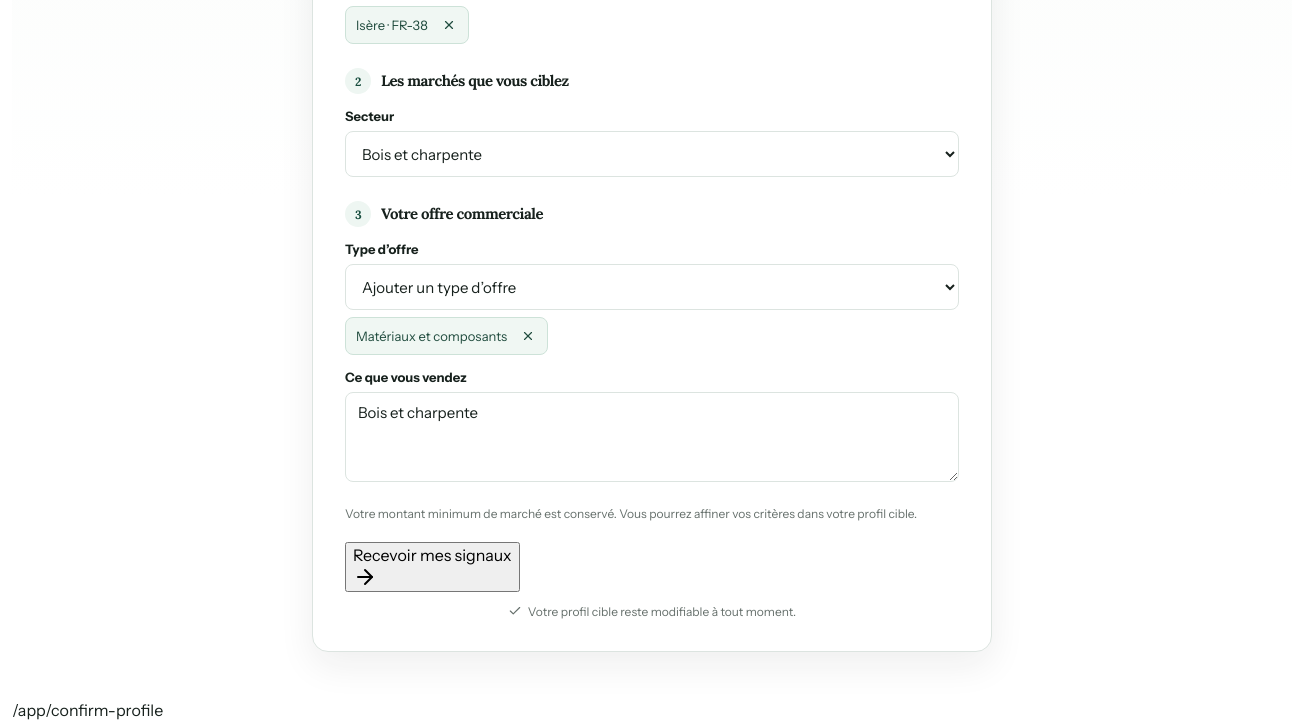
affiche une erreur si le serveur conserve un profil incomplet, sans retour en boucle
(page scrolled)
Click the button "Recevoir mes signaux".
click(432, 567)  # box [345,542,520,592]
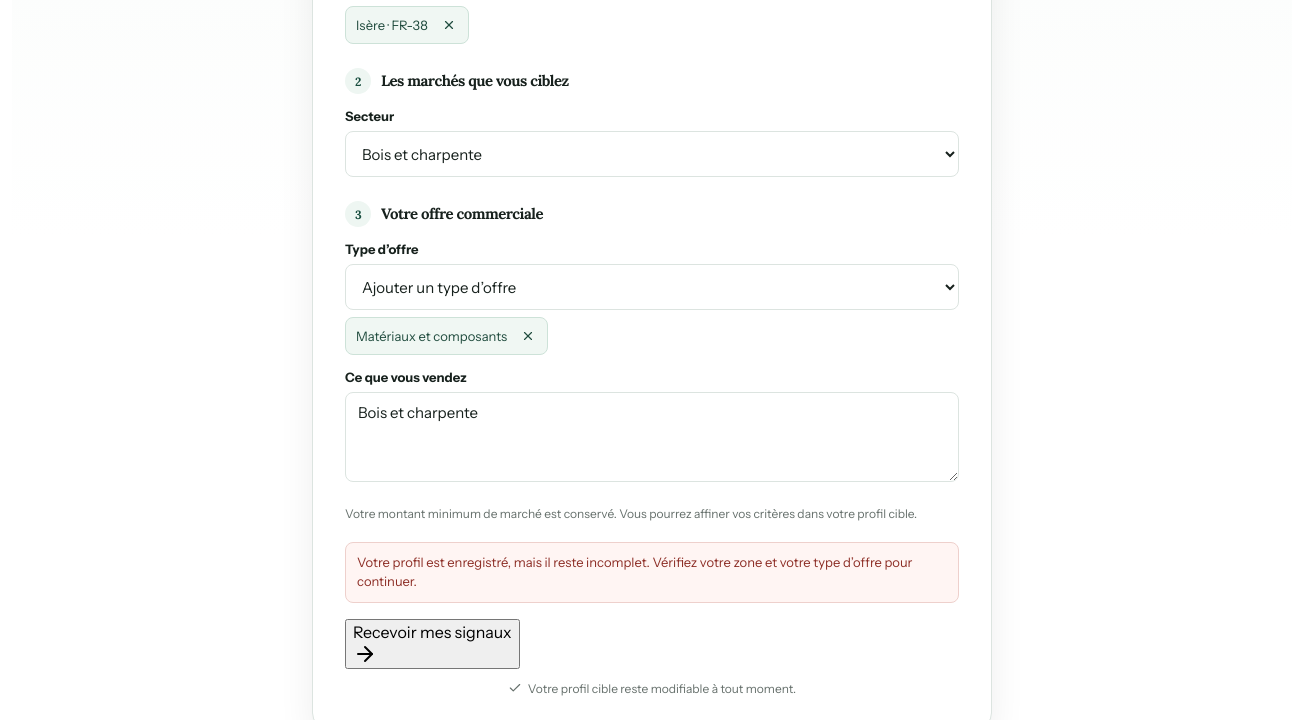
Check: the text box labelled "Ce que vous vendez" holds "Bois et charpente", box [345,392,959,482]
Check: the message shows "il reste incomplet", box [357,554,912,589]
